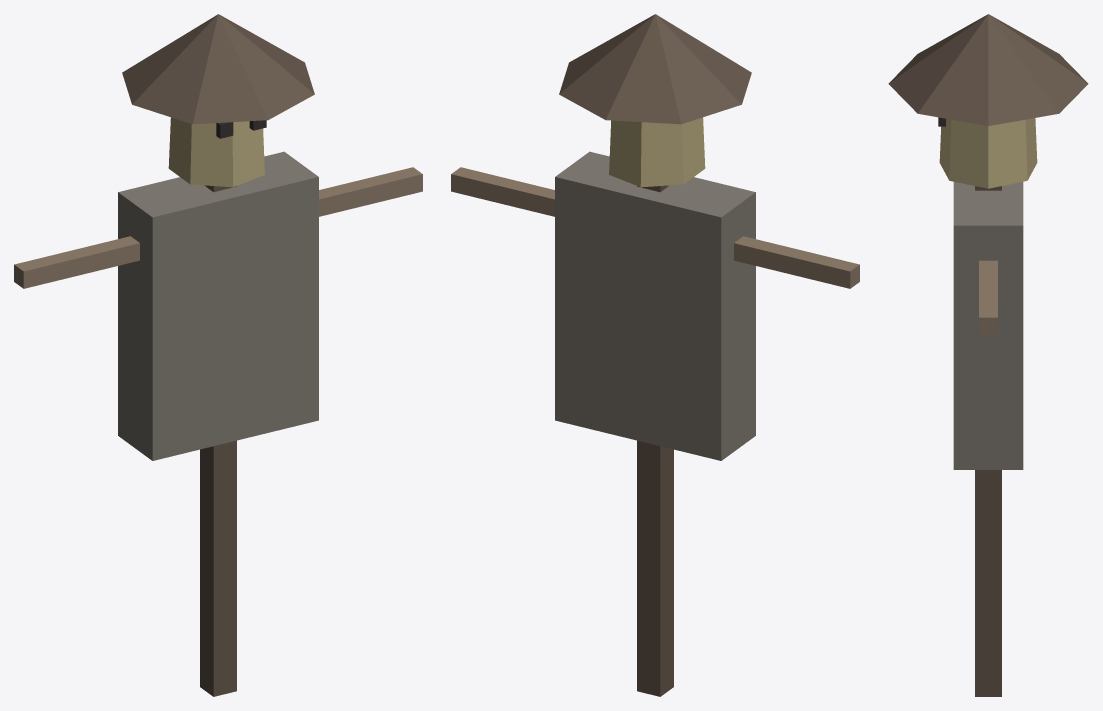
Rendered from hs_scarecrow.glb.
The picture shows the model from 3 angles, left to right: view 1: azimuth 30°, elevation 25°; view 2: azimuth 150°, elevation 25°; view 3: azimuth 270°, elevation 25°; orthographic projection.
Parts seen in each view (by area): view 1: hs_scarecrow; view 2: hs_scarecrow; view 3: hs_scarecrow.
Part boxes in pixels (x1,y1,x2,y2): hs_scarecrow: [14, 14, 422, 696]; hs_scarecrow: [451, 14, 859, 696]; hs_scarecrow: [888, 14, 1088, 696].
Bounding box in the file's own units: 1.2 × 1.94 × 0.52.
